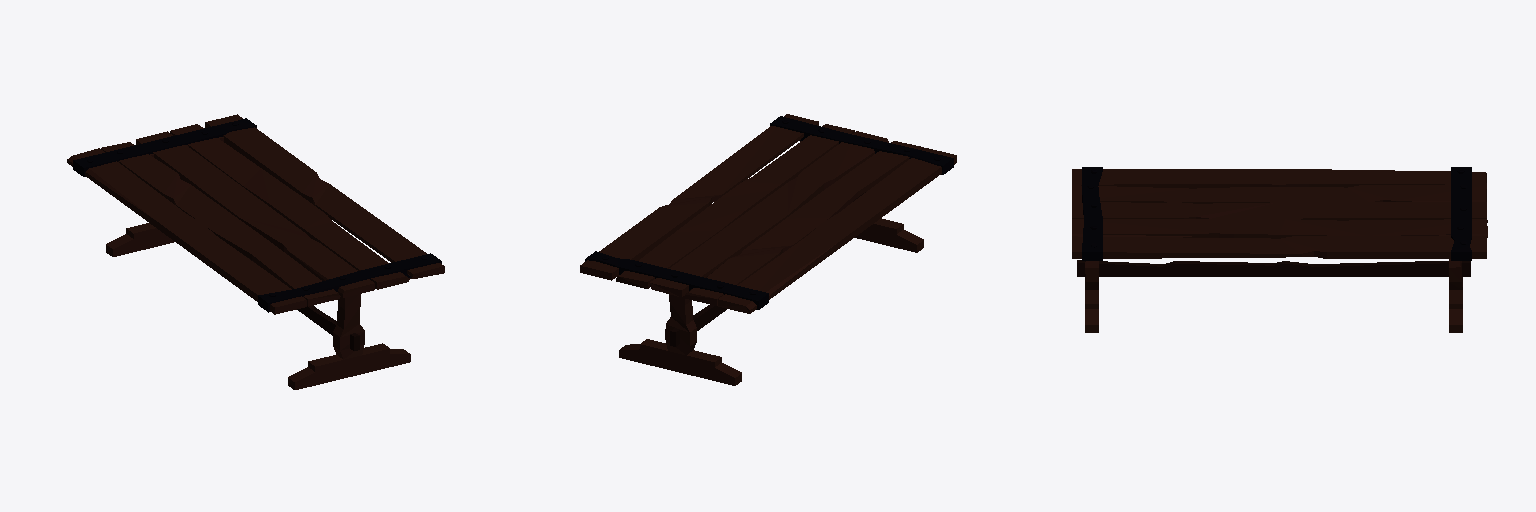
Rendered from Table_Big.obj.
3 views of the same model, side by side, from view 1: azimuth 30°, elevation 25°; view 2: azimuth 150°, elevation 25°; view 3: azimuth 270°, elevation 25° (orthographic).
Parts seen in each view (by area): view 1: Table_Big_Cube.003; view 2: Table_Big_Cube.003; view 3: Table_Big_Cube.003.
Boxes of the visible parts, x1=… form: Table_Big_Cube.003: x1=67, y1=114, x2=444, y2=389; Table_Big_Cube.003: x1=580, y1=114, x2=956, y2=385; Table_Big_Cube.003: x1=1072, y1=167, x2=1487, y2=332.
Bounding box in the file's own units: 1.58 × 0.854 × 3.3.